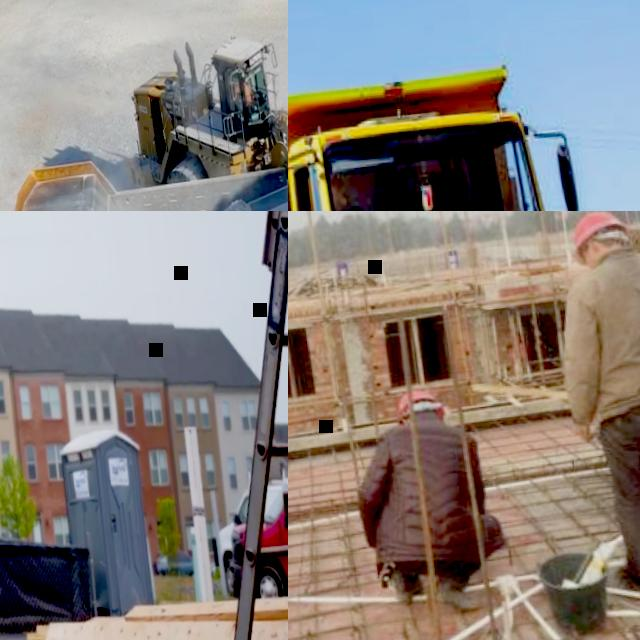Hardhat: (567, 211, 631, 252), (392, 386, 444, 421)
NO-Hardhat: (446, 166, 467, 190)
NO-Mask: (580, 241, 600, 268)
NO-Safety Vest: (367, 415, 486, 562), (582, 247, 640, 408), (436, 198, 474, 211)
Person: (343, 375, 512, 622), (549, 211, 640, 600), (583, 388, 640, 494), (427, 165, 480, 211), (233, 75, 255, 107)
Safety Vest: (233, 80, 253, 105)
vehicle: (288, 50, 640, 211), (121, 7, 288, 211), (0, 130, 288, 211), (217, 469, 288, 601), (212, 480, 272, 589)
